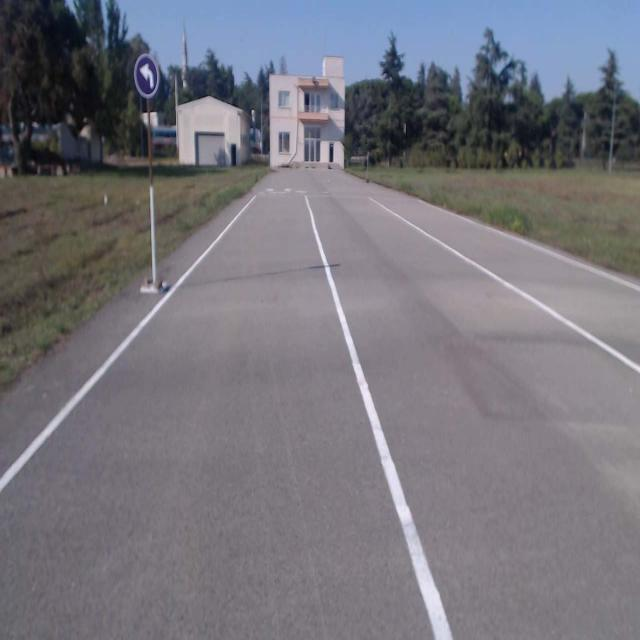sol: (134, 54, 159, 97)
